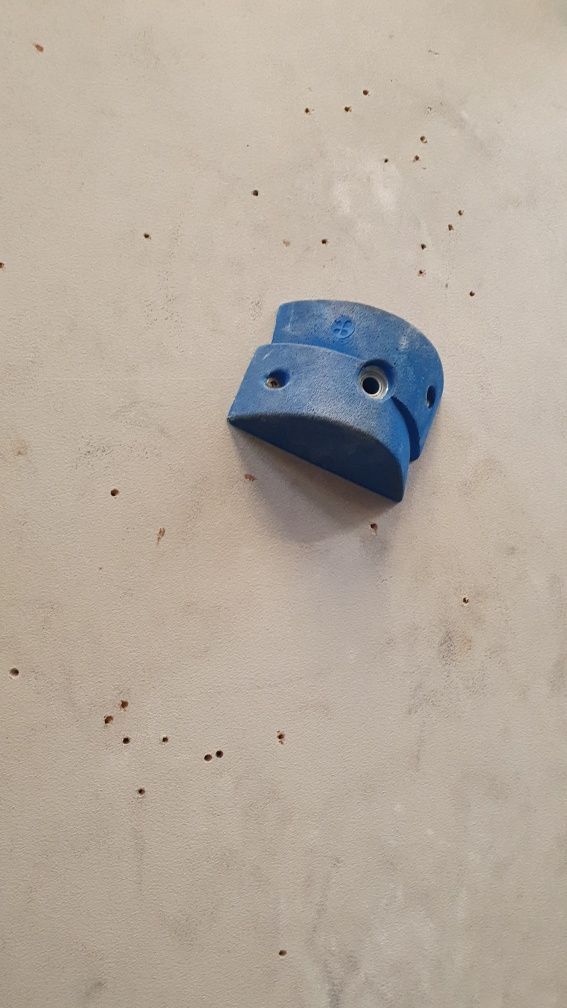Pinch: (228, 294, 449, 501)
